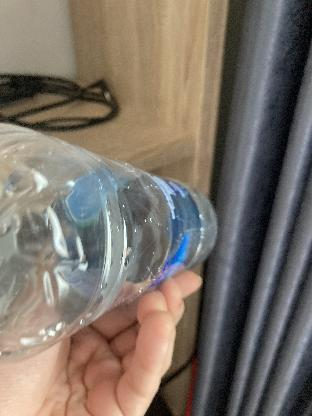Plastic Bottle: (0, 108, 222, 374)
